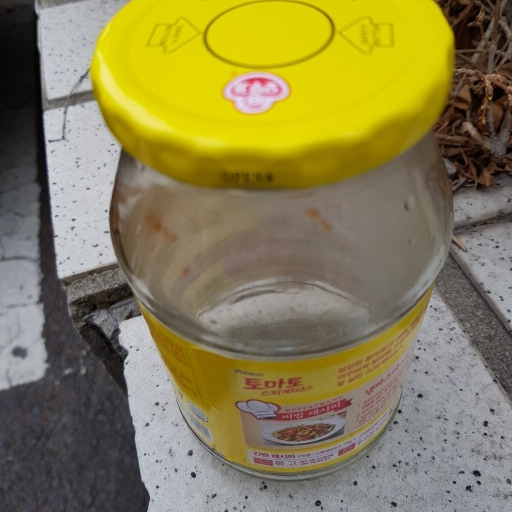Glass_5: (84, 1, 459, 482)
